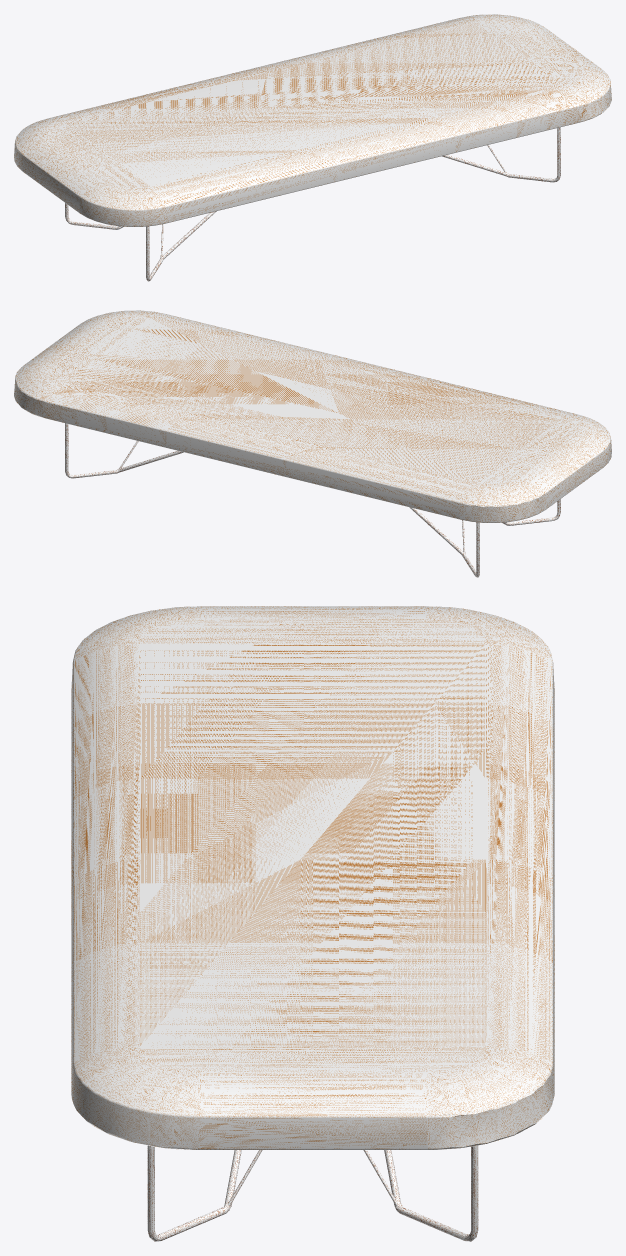
3 views of the same model, one above another, from view 1: azimuth 30°, elevation 25°; view 2: azimuth 150°, elevation 25°; view 3: azimuth 270°, elevation 25° (orthographic). The views are drawn at different scales.
Visible parts, largest first — view 1: mesh2_mesh2-geometry, mesh4_mesh4-geometry, mesh3_mesh3-geometry; view 2: mesh2_mesh2-geometry, mesh4_mesh4-geometry, mesh3_mesh3-geometry; view 3: mesh2_mesh2-geometry, mesh3_mesh3-geometry.
Boxes of the visible parts, <box> form: mesh2_mesh2-geometry: <box>14,14,611,226</box>; mesh4_mesh4-geometry: <box>65,203,216,281</box>; mesh3_mesh3-geometry: <box>442,127,560,182</box>; mesh2_mesh2-geometry: <box>14,310,611,522</box>; mesh4_mesh4-geometry: <box>409,499,560,577</box>; mesh3_mesh3-geometry: <box>65,423,183,478</box>; mesh2_mesh2-geometry: <box>71,606,554,1149</box>; mesh3_mesh3-geometry: <box>147,1145,478,1241</box>.
Bounding box in the file's own units: 0.9158 × 0.1661 × 0.3657.
